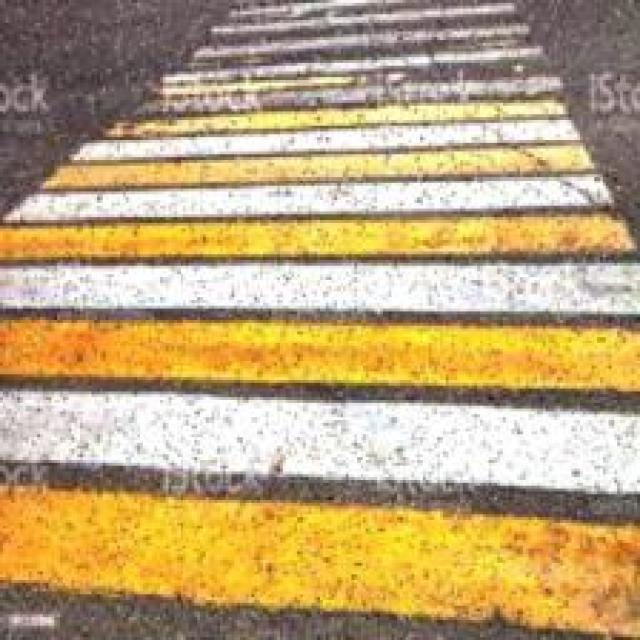crosswalk: (5, 7, 634, 640)
